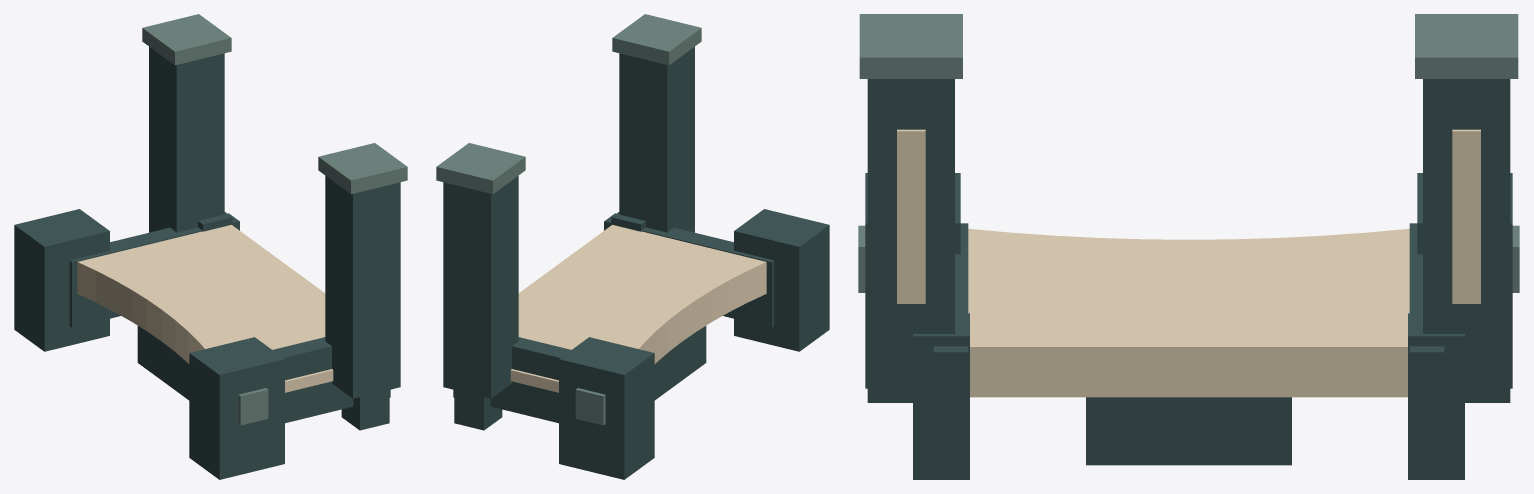
The model's file is Pier_Angled_00_Switch_lab2.glb.
3 renders of one model, left to right at view 1: azimuth 30°, elevation 25°; view 2: azimuth 150°, elevation 25°; view 3: azimuth 270°, elevation 25°, orthographic. The views are drawn at different scales.
Parts seen in each view (by area): view 1: Pier_Angled_00_Switch; view 2: Pier_Angled_00_Switch; view 3: Pier_Angled_00_Switch.
Boxes of the visible parts, box(x1,y1,x2,y2) form: Pier_Angled_00_Switch: box(14, 14, 407, 479); Pier_Angled_00_Switch: box(436, 14, 829, 479); Pier_Angled_00_Switch: box(858, 14, 1519, 479).
Size of the model in its own units: 2.21 by 2.95 by 4.17.
